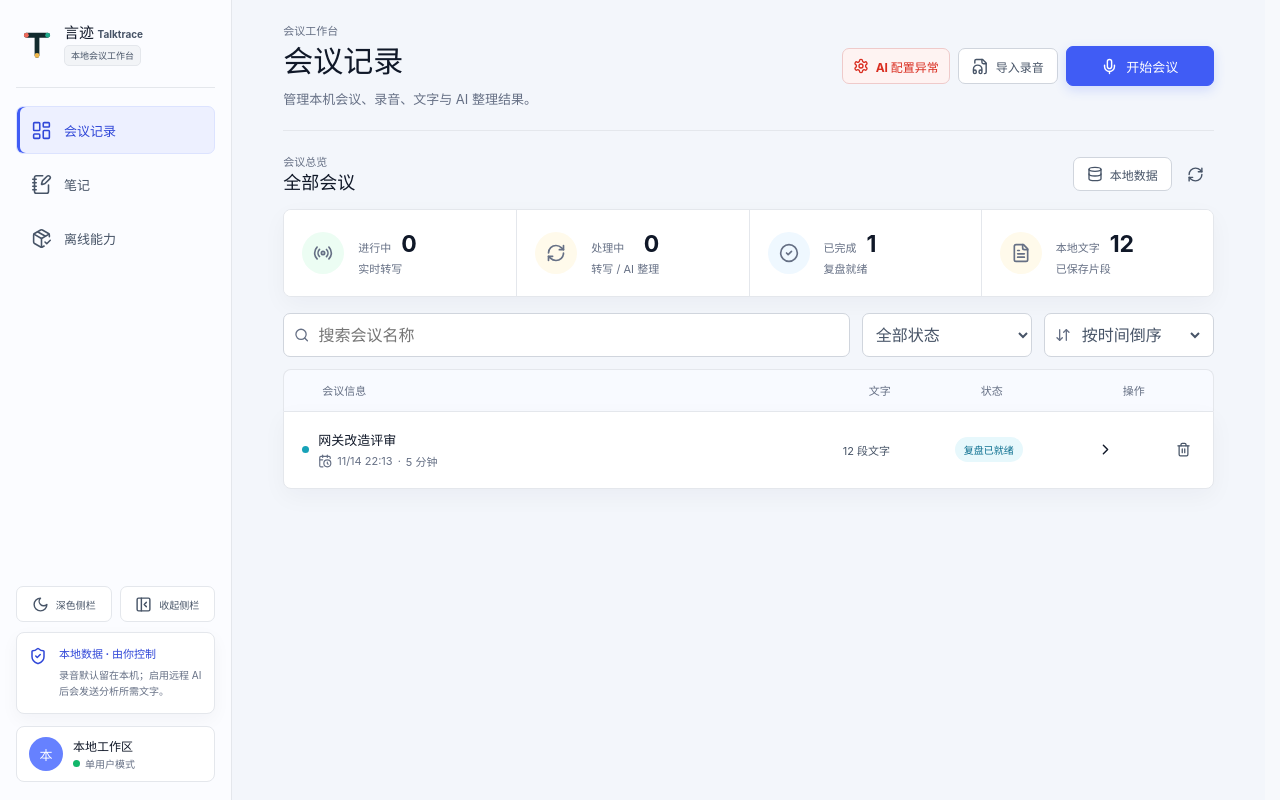
LiveMeetingWorkbench › opens recent meetings from the start screen
Step 1. Click the button named "打开会议：网关改造评审" → (357, 440), box [318,412,1121,487]
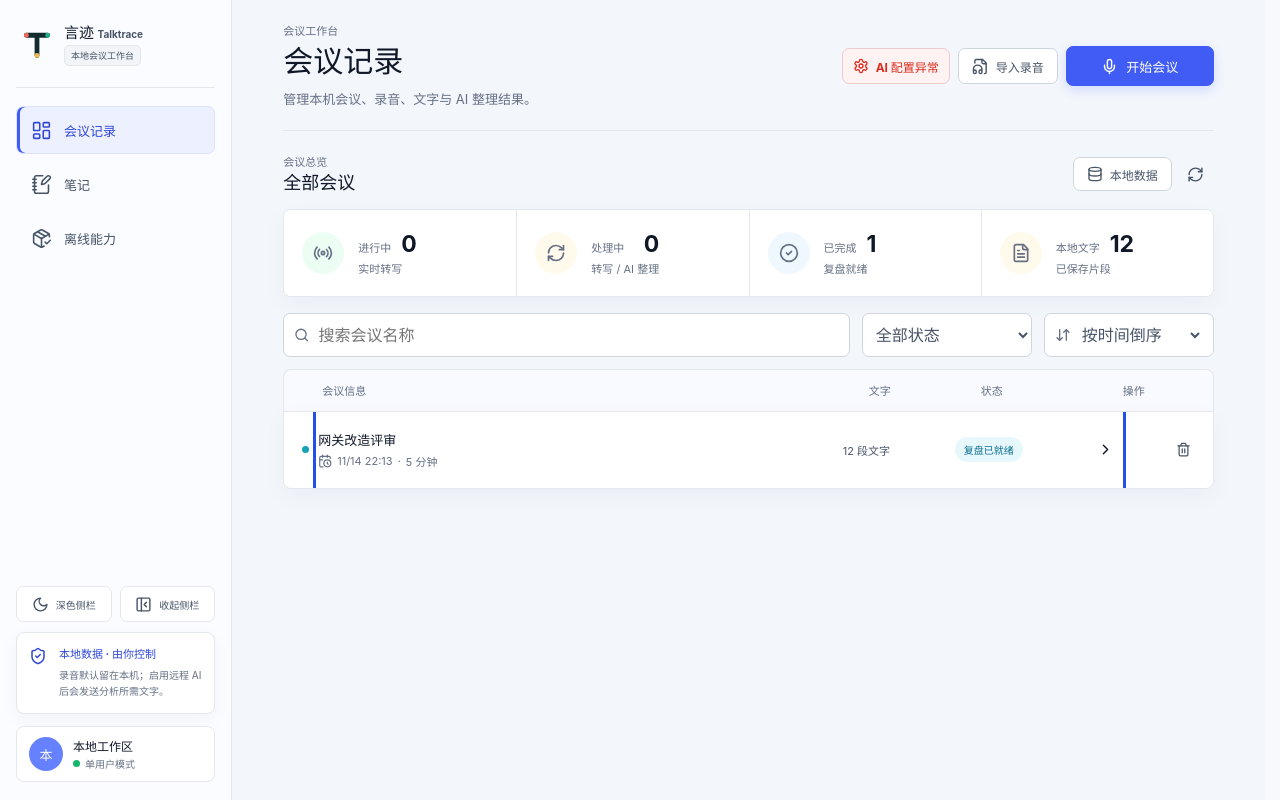
Step 2. Click the button named "管理本地数据：网关改造评审" → (1184, 450), box [1169,435,1199,465]
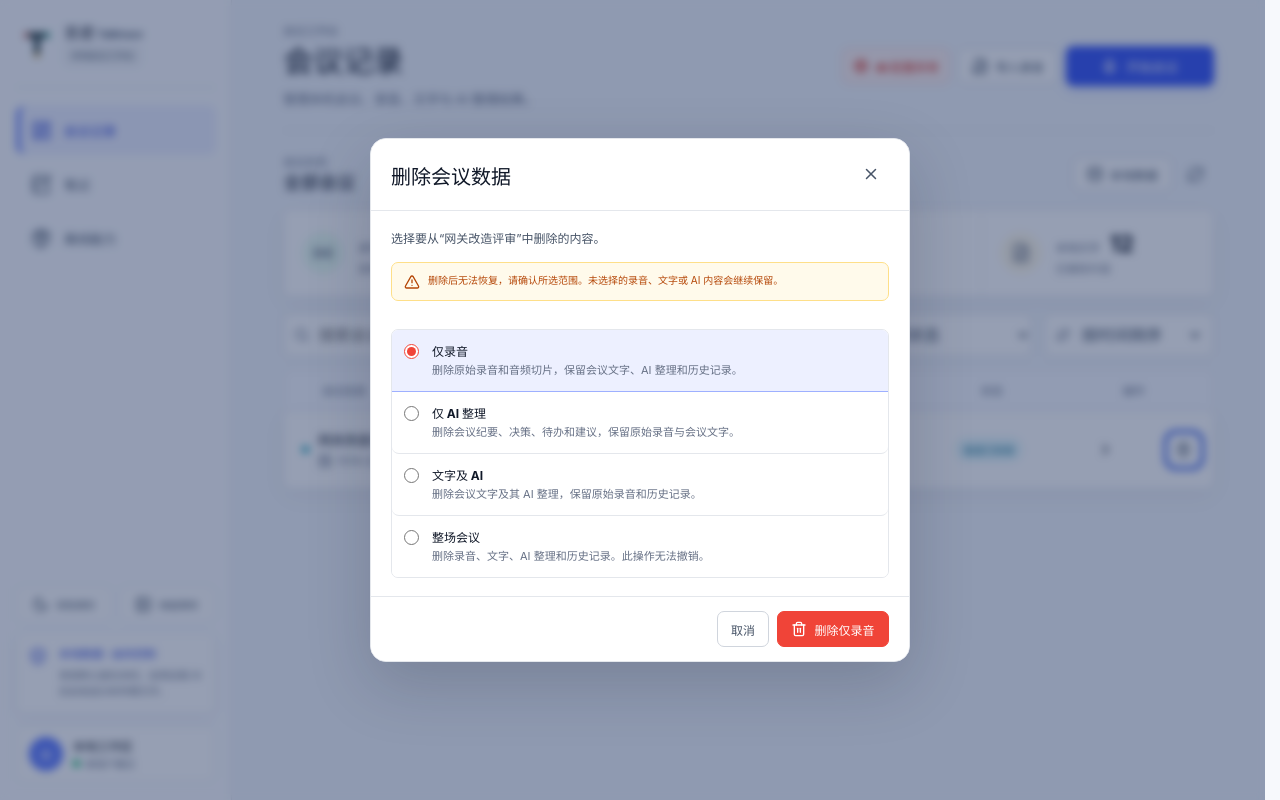
Step 3. Click the radio button labelled "整场会议 删除录音、文字、AI 整理和历史记录。此操作无法撤销。" → (412, 538), box [404,530,419,545]
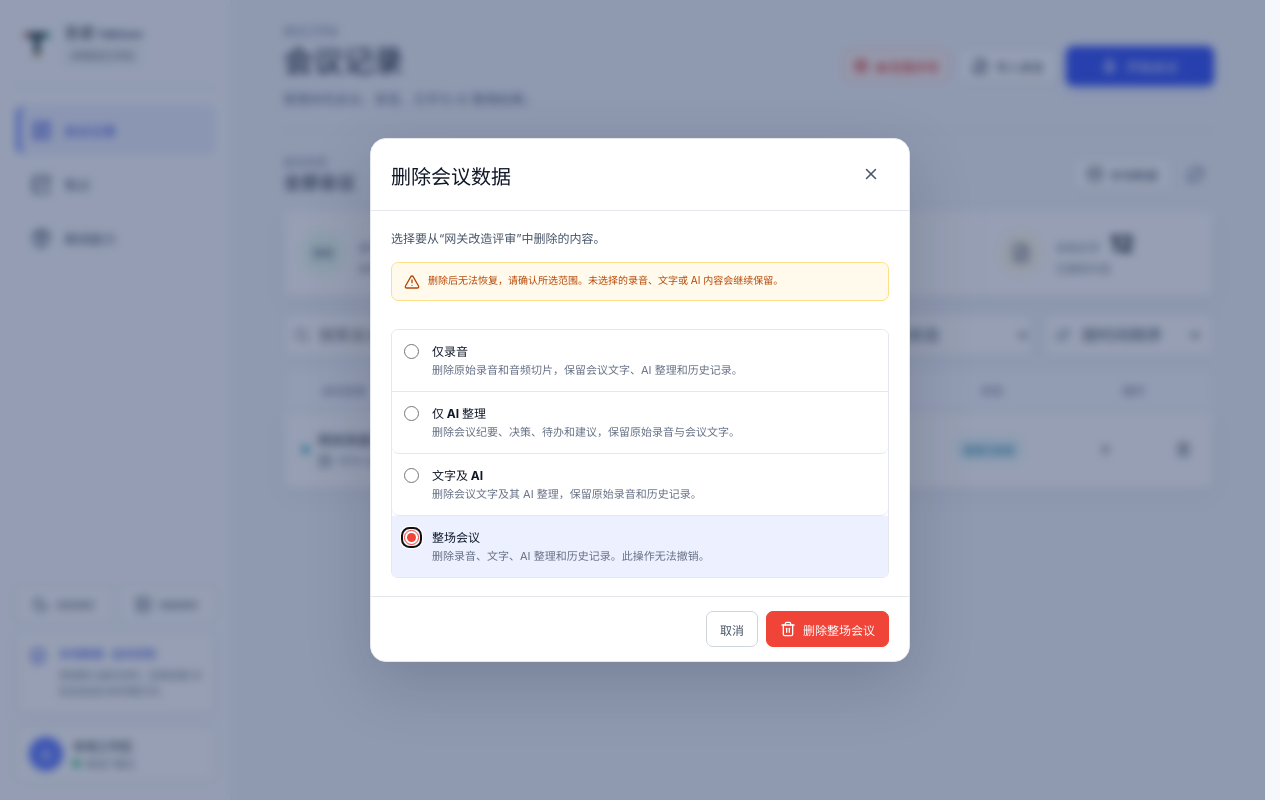
Step 4. Click the button "删除整场会议" → (828, 630), box [766,612,889,648]
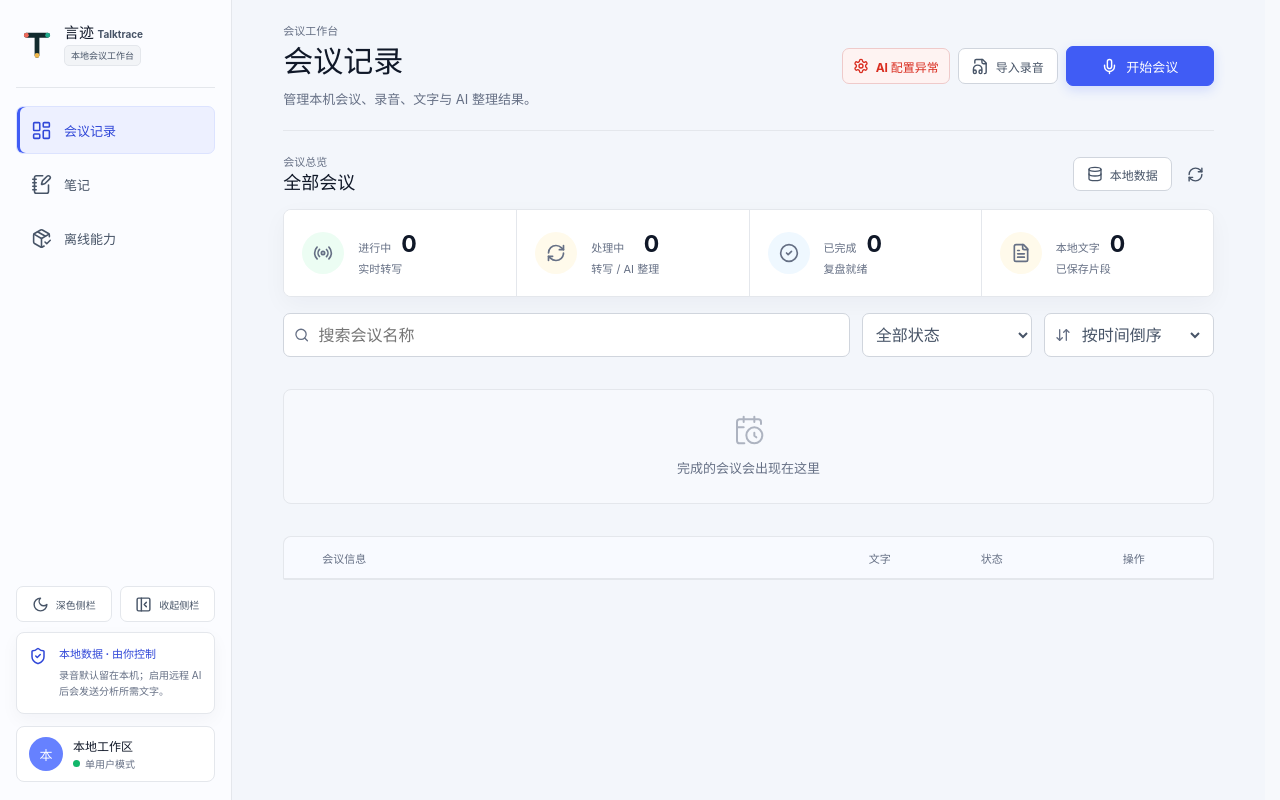
Check: the button "打开会议：网关改造评审" is gone
